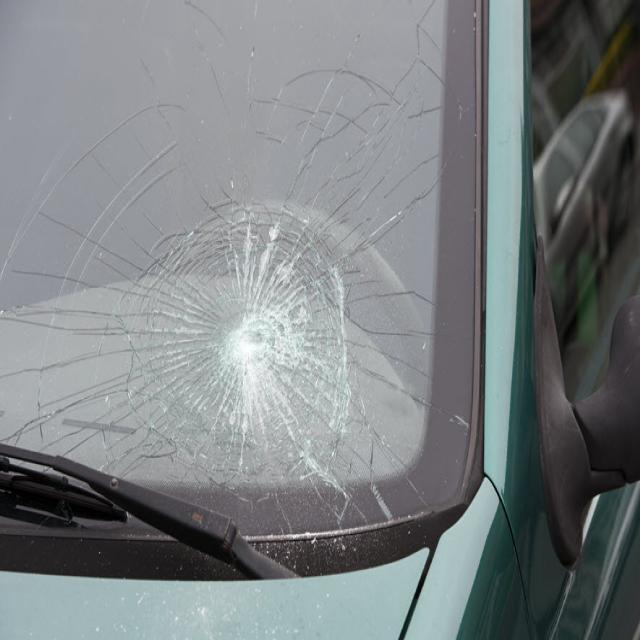crack: (36, 50, 454, 542)
